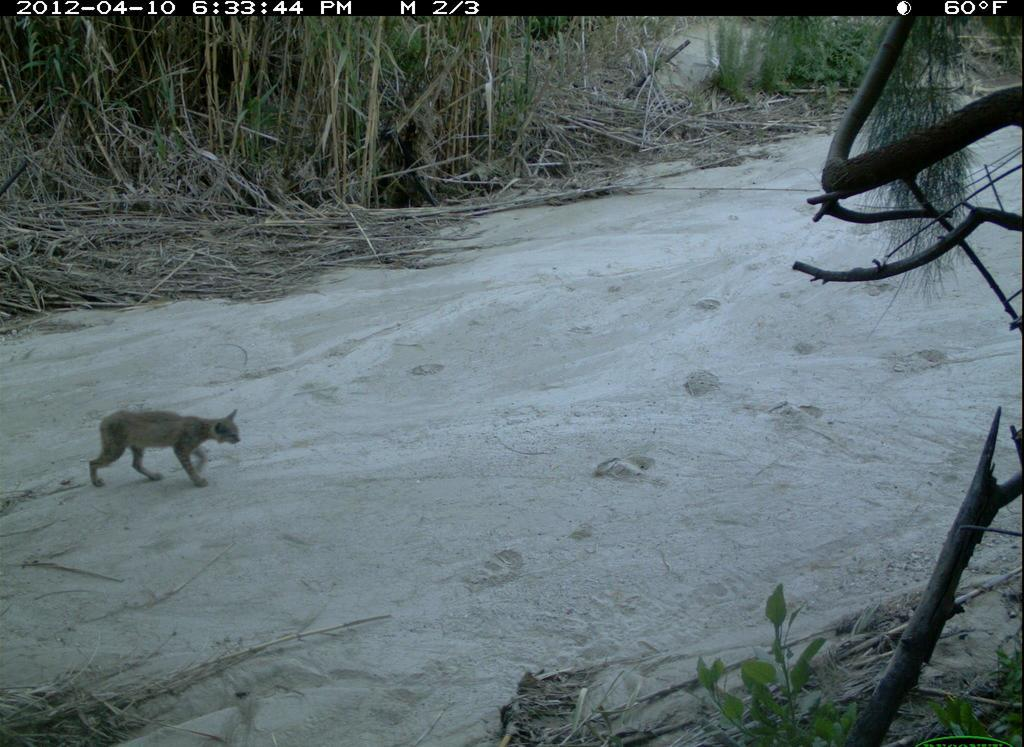bobcat: (81, 402, 245, 497)
